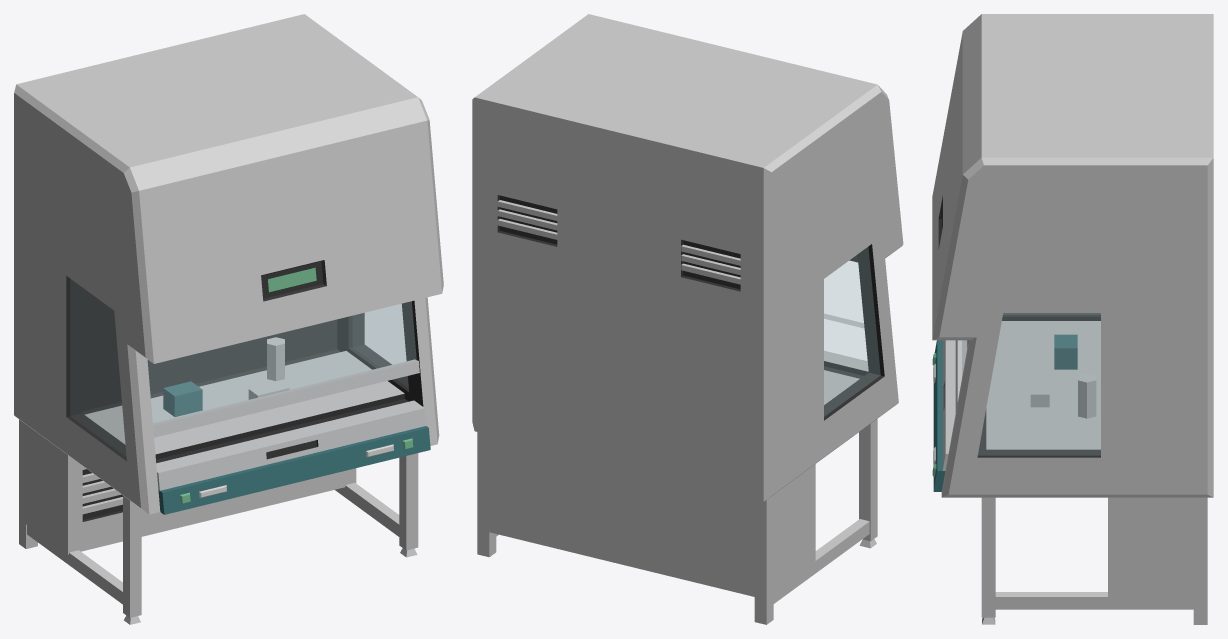
The model's file is bio_psm.glb.
3 views of the same model, side by side, from view 1: azimuth 30°, elevation 25°; view 2: azimuth 150°, elevation 25°; view 3: azimuth 270°, elevation 25° (orthographic). The views are drawn at different scales.
Parts seen in each view (by area): view 1: biosafety-cabinet, sash; view 2: biosafety-cabinet; view 3: biosafety-cabinet, sash.
Boxes of the visible parts, x1,y1,x2,y2 form: biosafety-cabinet: [14, 14, 443, 624]; sash: [148, 301, 419, 437]; biosafety-cabinet: [472, 14, 903, 624]; biosafety-cabinet: [932, 14, 1213, 624]; sash: [955, 340, 968, 412].
Bounding box in the file's own units: 1.5 × 2.2 × 1.2.
